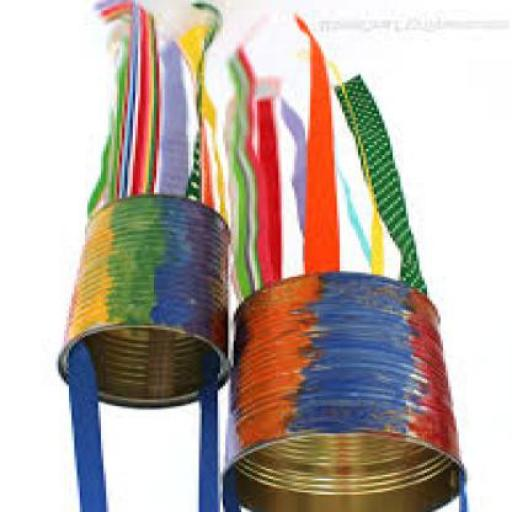metal: (220, 272, 464, 511), (53, 196, 228, 412)
